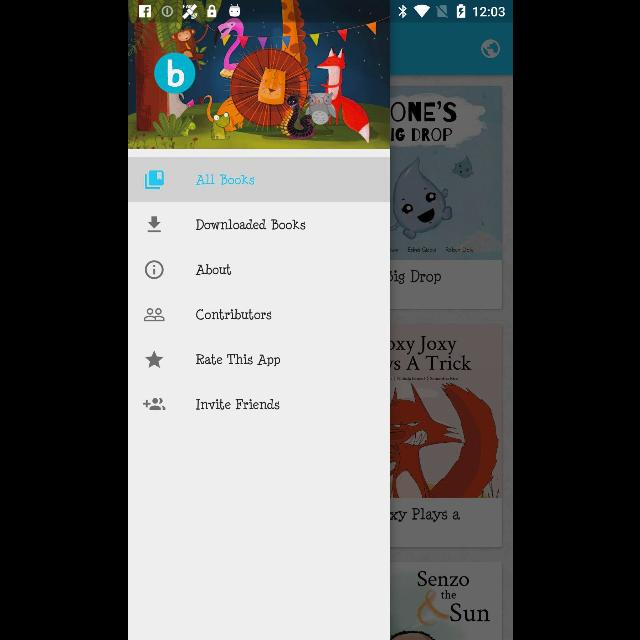icon: (144, 260, 164, 280), (144, 170, 164, 190), (144, 350, 164, 368), (142, 398, 166, 410), (144, 308, 164, 322), (148, 217, 160, 233)
image: (128, 23, 388, 148)
panel: (128, 23, 388, 639)
text: (195, 220, 305, 230), (195, 354, 279, 366), (196, 309, 270, 321), (195, 400, 279, 410), (194, 174, 253, 186), (195, 264, 231, 276)
uppertaskbar: (128, 1, 512, 23)
